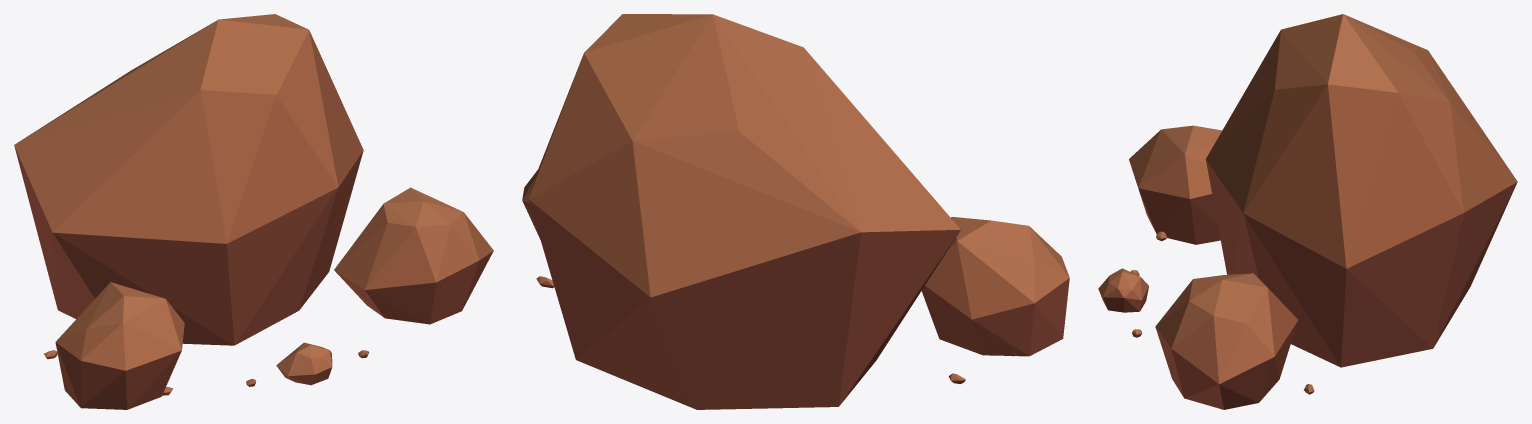
Rendered from rock-cluster.glb.
3 renders of one model, left to right at view 1: azimuth 30°, elevation 25°; view 2: azimuth 150°, elevation 25°; view 3: azimuth 270°, elevation 25°, orthographic. The views are drawn at different scales.
Parts seen in each view (by area): view 1: cluster_stone_0, cluster_stone_2, cluster_stone_1, cluster_stone_3; view 2: cluster_stone_0, cluster_stone_1; view 3: cluster_stone_0, cluster_stone_2, cluster_stone_1, cluster_stone_3.
Boxes of the visible parts, box(x1,y1,x2,y2) form: cluster_stone_0: box(14, 14, 363, 345); cluster_stone_2: box(334, 187, 493, 324); cluster_stone_1: box(55, 282, 184, 409); cluster_stone_3: box(276, 342, 332, 385); cluster_stone_0: box(528, 14, 960, 409); cluster_stone_1: box(921, 217, 1069, 356); cluster_stone_0: box(1206, 14, 1517, 367); cluster_stone_2: box(1155, 273, 1298, 409); cluster_stone_1: box(1129, 125, 1222, 244); cluster_stone_3: box(1098, 268, 1148, 312).
Size of the model in its own units: 2.79 by 1.7 by 2.18.
